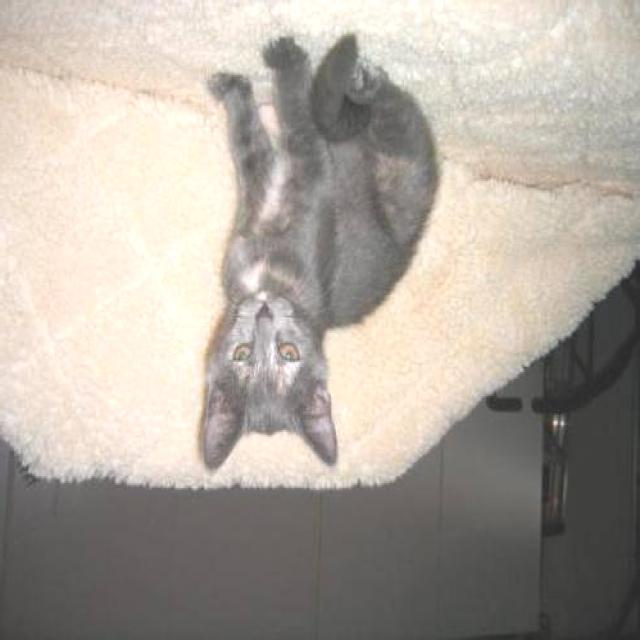Kucing: (181, 24, 423, 496)
